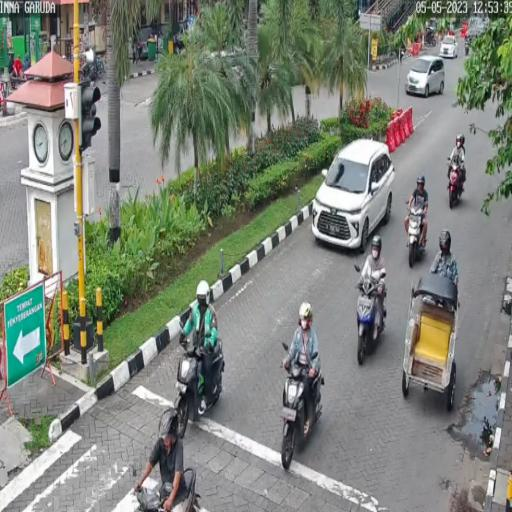mobil: (310, 140, 397, 254), (405, 52, 446, 100)
motor: (280, 340, 326, 476), (175, 322, 225, 442), (353, 264, 389, 367), (405, 196, 430, 271), (446, 154, 469, 208)
